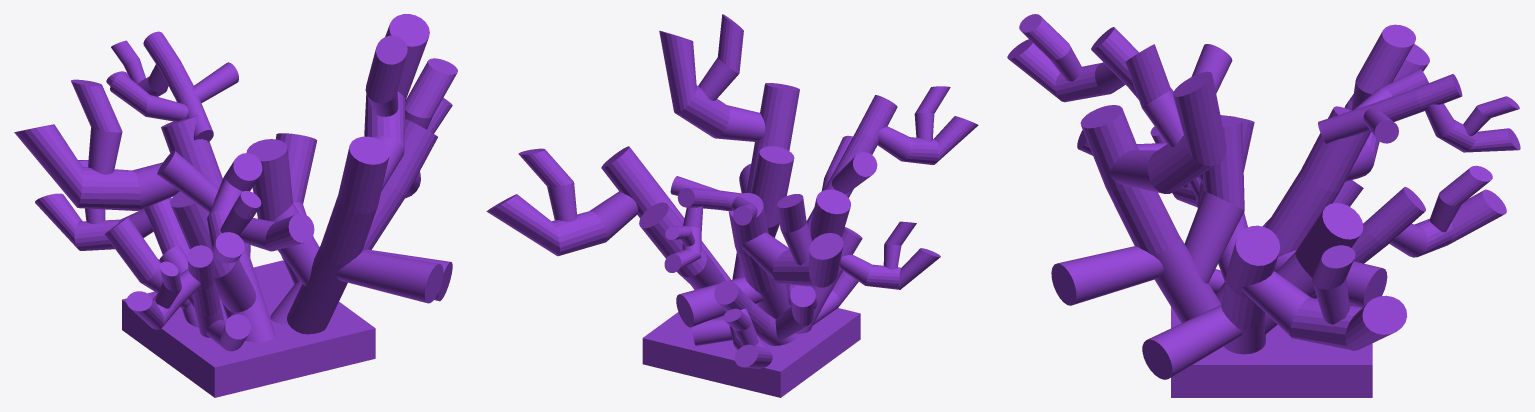
File: Sango(murasaki).fbx
3 renders of one model, left to right at view 1: azimuth 30°, elevation 25°; view 2: azimuth 150°, elevation 25°; view 3: azimuth 270°, elevation 25°, orthographic. The views are drawn at different scales.
Visible parts, largest first — view 1: pCylinder15; view 2: pCylinder15; view 3: pCylinder15.
Boxes of the visible parts, x1,y1,x2,y2 form: pCylinder15: [14, 14, 457, 397]; pCylinder15: [486, 14, 978, 397]; pCylinder15: [1007, 14, 1520, 397].
Size of the model in its own units: 16.83 by 12.48 by 16.31.
